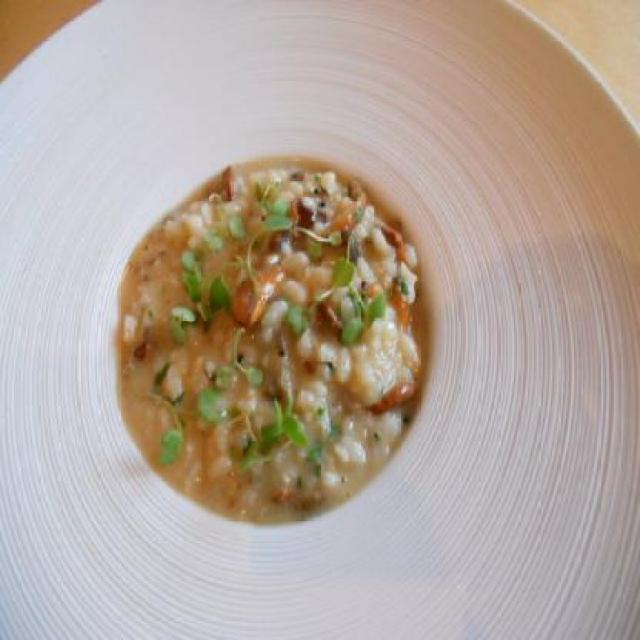Risotto: (102, 123, 460, 554)
